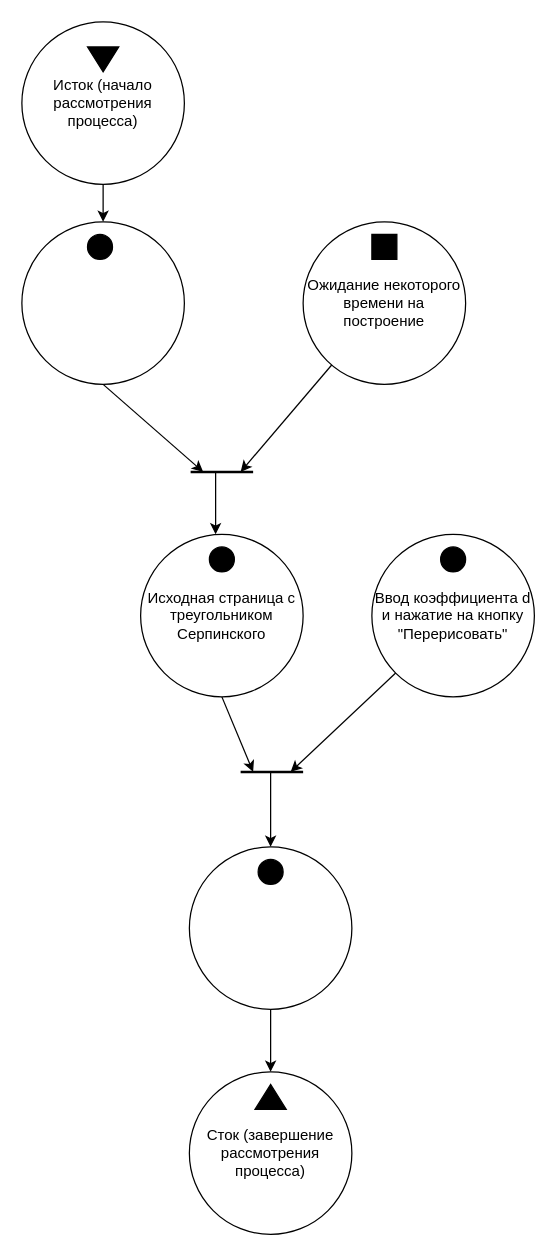
The diagram is 556 pixels wide and 1256 high, and some of its shapes have lost their labels. Here are the shapes that lost their labels. From the top down, the box of each, then its label:
(21, 221, 184, 384): Исходная страница без построенного треу-ка Серпинского
(188, 846, 352, 1009): Страница с новым треугольником Серпинского
